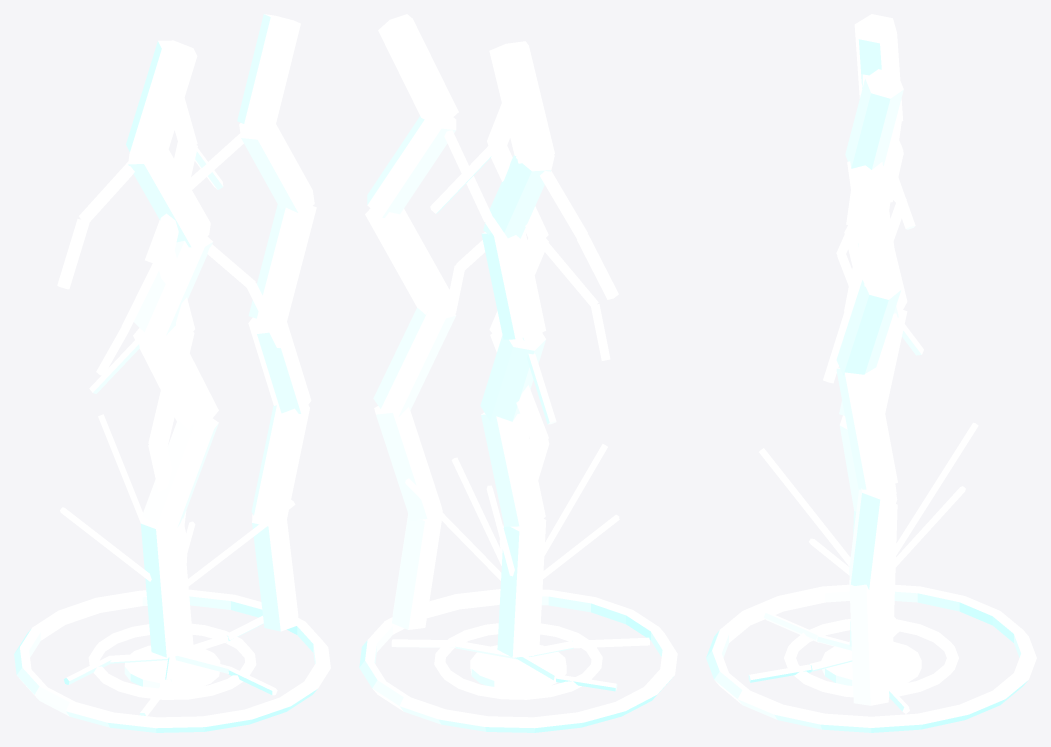
File: effect-lightning.glb
3 renders of one model, left to right at view 1: azimuth 30°, elevation 25°; view 2: azimuth 150°, elevation 25°; view 3: azimuth 270°, elevation 25°, orthographic. The views are drawn at different scales.
Visible parts, largest first — view 1: main_glow_1, main_glow_3, impact_ring_outer, main_bolt_2, impact_ring_inner, impact_disc, branch_1, branch_2, branch_2b, branch_3a, spark_2, ground_crack_2 (+6 smaller); view 2: main_glow_1, main_glow_3, impact_ring_outer, main_bolt_2, impact_ring_inner, impact_disc, branch_1, branch_3a, branch_2b, ground_crack_0, ground_crack_3, spark_0 (+8 smaller); view 3: main_glow_3, impact_ring_outer, main_glow_1, impact_ring_inner, impact_disc, branch_2, spark_4, spark_3, ground_crack_2, branch_2a, spark_0, ground_crack_3.
Part boxes in pixels (x1,y1,x2,y2): main_glow_1: [126, 40, 218, 657]; main_glow_3: [237, 14, 316, 631]; impact_ring_outer: [14, 589, 330, 732]; main_bolt_2: [148, 98, 197, 569]; impact_ring_inner: [88, 623, 256, 699]; impact_disc: [124, 645, 220, 688]; branch_1: [57, 154, 141, 289]; branch_2: [204, 238, 286, 347]; branch_2b: [96, 249, 166, 375]; branch_3a: [145, 125, 256, 262]; spark_2: [186, 500, 295, 587]; ground_crack_2: [175, 654, 277, 695]; main_glow_1: [480, 41, 554, 657]; main_glow_3: [365, 14, 458, 629]; impact_ring_outer: [359, 589, 677, 732]; main_bolt_2: [487, 103, 549, 565]; impact_ring_inner: [434, 623, 602, 699]; impact_disc: [470, 645, 566, 688]; branch_1: [535, 159, 618, 299]; branch_3a: [444, 122, 528, 274]; branch_2b: [543, 239, 610, 360]; ground_crack_0: [391, 639, 517, 659]; ground_crack_3: [528, 637, 649, 656]; spark_0: [405, 478, 501, 580]; main_glow_3: [836, 69, 903, 705]; impact_ring_outer: [706, 584, 1036, 732]; main_glow_1: [839, 14, 907, 649]; impact_ring_inner: [784, 619, 958, 697]; impact_disc: [821, 641, 921, 685]; branch_2: [823, 246, 862, 383]; spark_4: [893, 422, 978, 559]; spark_3: [759, 448, 850, 566]; ground_crack_2: [748, 653, 852, 682]; branch_2a: [883, 149, 915, 229]; spark_0: [886, 486, 965, 577]; ground_crack_3: [764, 612, 851, 650].
Bounding box in the file's own units: 0.3902 × 0.8246 × 0.38.
